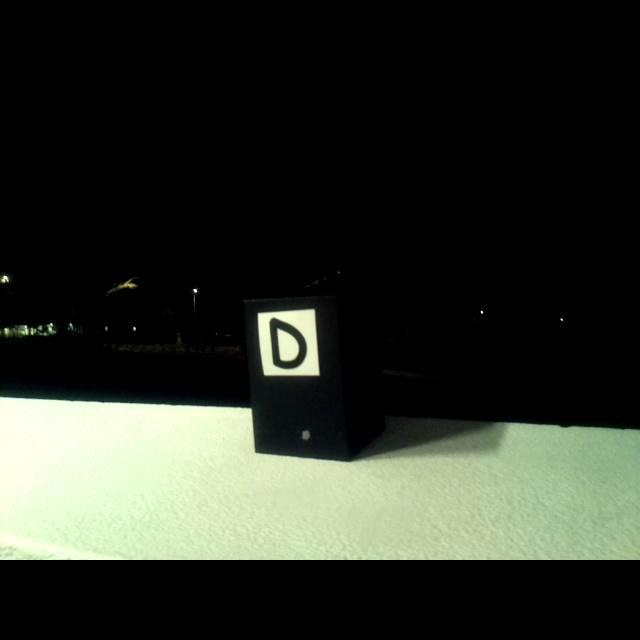D: (269, 317, 308, 371)
